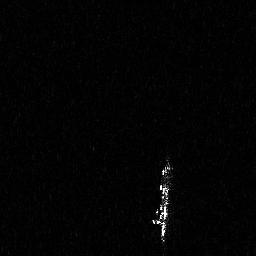ship: (155, 161, 173, 239)
